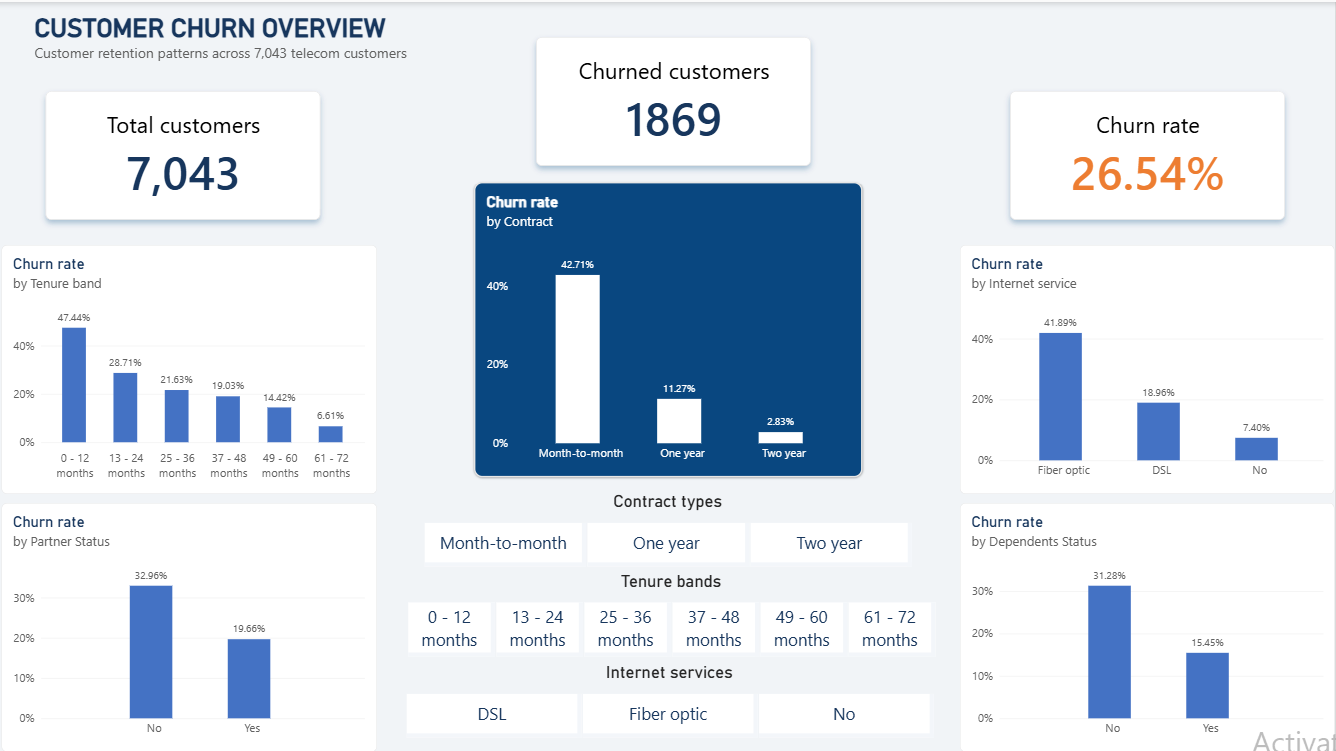

What the dashboard file says about the page in this screenshot:
{"tool":"powerbi","page":{"name":"Page 1","canvas":[1920,1080],"ordinal":0},"visuals":[{"type":"cardVisual","fields":{"Data":["CountNonNull(public vw_churn_powerbi.customer_id)"]},"box":[49.6,112.2,427.1,217.9],"z":0},{"type":"cardVisual","fields":{"Data":["public vw_churn_powerbi.churned_customers"]},"box":[755,34.5,427,217],"z":1000},{"type":"cardVisual","fields":{"Data":["public vw_churn_powerbi.churn_rate"]},"box":[1436.7,112.2,427,217],"z":2000},{"type":"clusteredColumnChart","title":"Churn rate","fields":{"Category":["public vw_churn_powerbi.contract"],"Y":["public vw_churn_powerbi.Churn rate"]},"box":[681.4,258.9,558.7,424.7],"z":3000},{"type":"clusteredColumnChart","title":"Churn rate","fields":{"Category":["public vw_churn_powerbi.tenure_band"],"Y":["public vw_churn_powerbi.Churn rate"]},"box":[2.1,349.2,540,358],"z":4000},{"type":"clusteredColumnChart","title":"Churn rate","fields":{"Category":["public vw_churn_powerbi.internet_service"],"Y":["public vw_churn_powerbi.Churn rate"]},"box":[1381.5,348.5,540,358],"z":5000},{"type":"slicer","title":"Contract types","fields":{"Values":["public vw_churn_powerbi.contract"]},"box":[570.1,683.7,781.3,149.9],"z":6000},{"type":"clusteredColumnChart","title":"Churn rate","fields":{"Category":["public vw_churn_powerbi.partner"],"Y":["public vw_churn_powerbi.Churn rate"]},"box":[2.2,720.2,540,358],"z":7000},{"type":"clusteredColumnChart","title":"Churn rate","fields":{"Category":["public vw_churn_powerbi.dependents"],"Y":["public vw_churn_powerbi.Churn rate"]},"box":[1380.8,720.2,540,358],"z":8000},{"type":"textbox","title":"CUSTOMER CHURN OVERVIEW","box":[49.6,15.1,919.9,258.9],"z":9000},{"type":"slicer","title":"Tenure bands","fields":{"Values":["public vw_churn_powerbi.tenure_band"]},"box":[545.1,797.2,838.1,149.9],"z":9001},{"type":"slicer","title":"Internet services","fields":{"Values":["public vw_churn_powerbi.internet_service"]},"box":[542.8,929,838.1,149.9],"z":9002}]}

Visuals, with their boxes in screenshot pixels (x1, y1, x2, y2), scaled from the page's 1920x1080 canvas onto the 1336x751 screenshot:
cardVisual - CountNonNull(public vw_churn_powerbi.customer_id): select_region(35, 78, 332, 230)
cardVisual - public vw_churn_powerbi.churned_customers: select_region(525, 24, 822, 175)
cardVisual - public vw_churn_powerbi.churn_rate: select_region(1000, 78, 1297, 229)
"Churn rate" clusteredColumnChart: select_region(474, 180, 863, 475)
"Churn rate" clusteredColumnChart: select_region(1, 243, 377, 492)
"Churn rate" clusteredColumnChart: select_region(961, 242, 1335, 491)
"Contract types" slicer: select_region(397, 475, 940, 580)
"Churn rate" clusteredColumnChart: select_region(2, 501, 377, 750)
"Churn rate" clusteredColumnChart: select_region(961, 501, 1335, 750)
"CUSTOMER CHURN OVERVIEW" textbox: select_region(35, 11, 675, 191)
"Tenure bands" slicer: select_region(379, 554, 962, 659)
"Internet services" slicer: select_region(378, 646, 961, 750)
